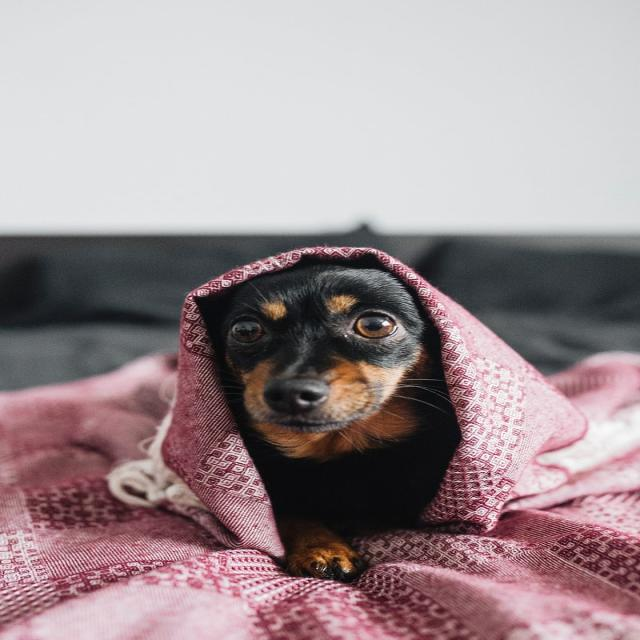blanket: (162, 249, 590, 558)
